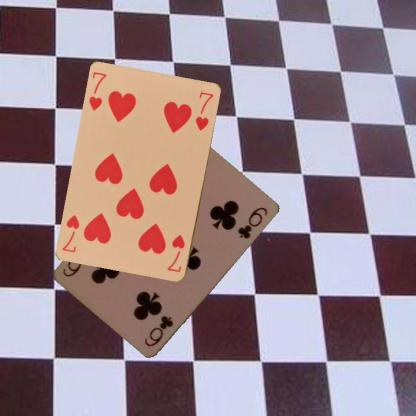6c: (141, 312, 174, 348)
7h: (164, 232, 186, 274), (87, 69, 108, 112)
